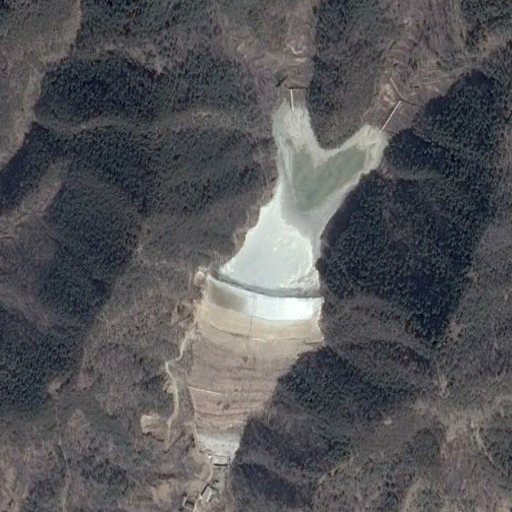tp: (190, 89, 386, 464)
